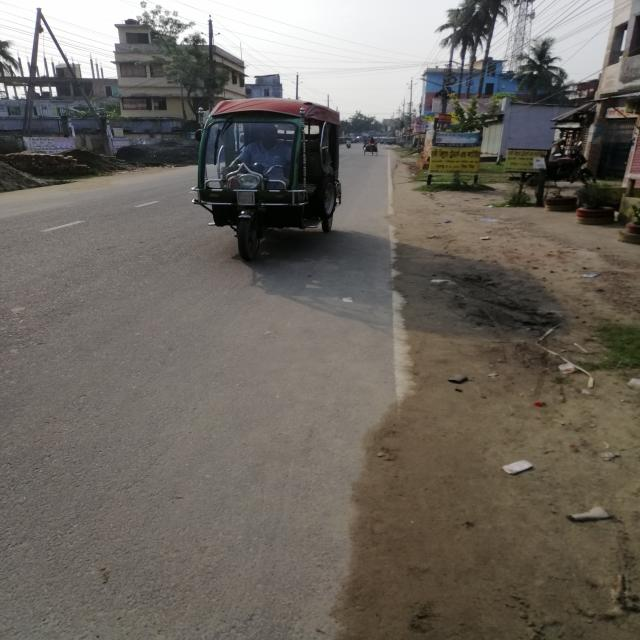Easybike: (185, 89, 362, 266)
